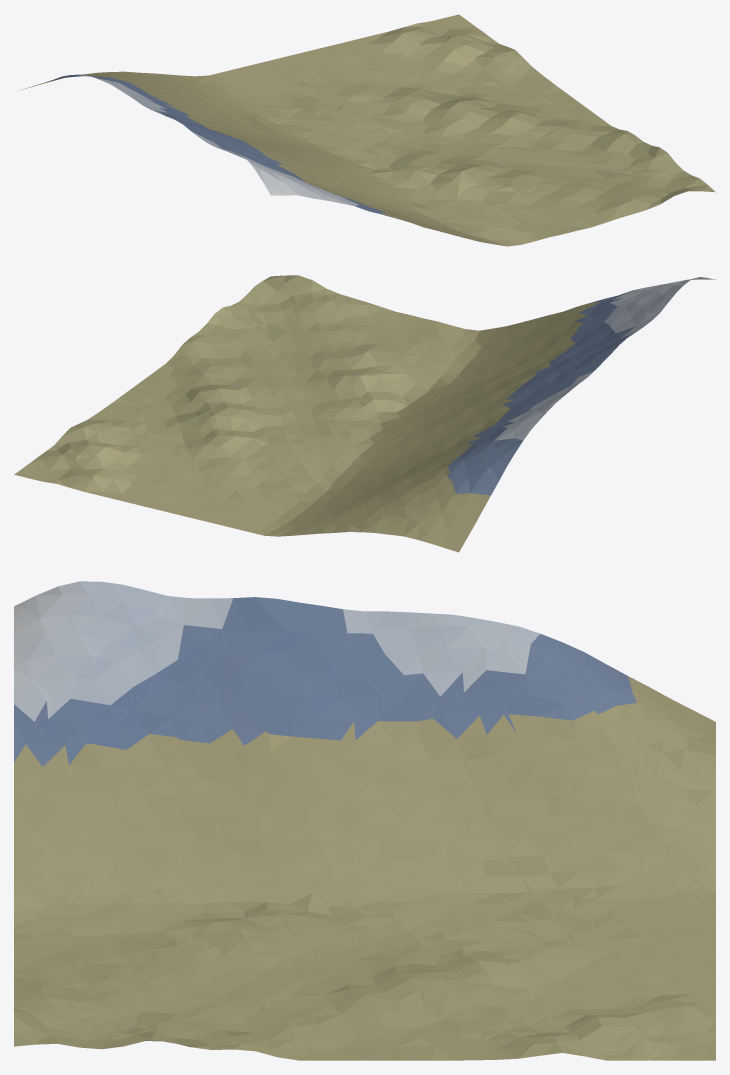
Rendered from Ground_6_-4.glb.
3 views of the same model, one above another, from view 1: azimuth 30°, elevation 25°; view 2: azimuth 150°, elevation 25°; view 3: azimuth 270°, elevation 25° (orthographic). The views are drawn at different scales.
Visible parts, largest first — view 1: Ground_6_-4; view 2: Ground_6_-4; view 3: Ground_6_-4.
Boxes of the visible parts, x1,y1,x2,y2 form: Ground_6_-4: (22,14,715,246); Ground_6_-4: (14,275,715,552); Ground_6_-4: (14,581,715,1060).
Bounding box in the file's own units: 768 × 220 × 768.
